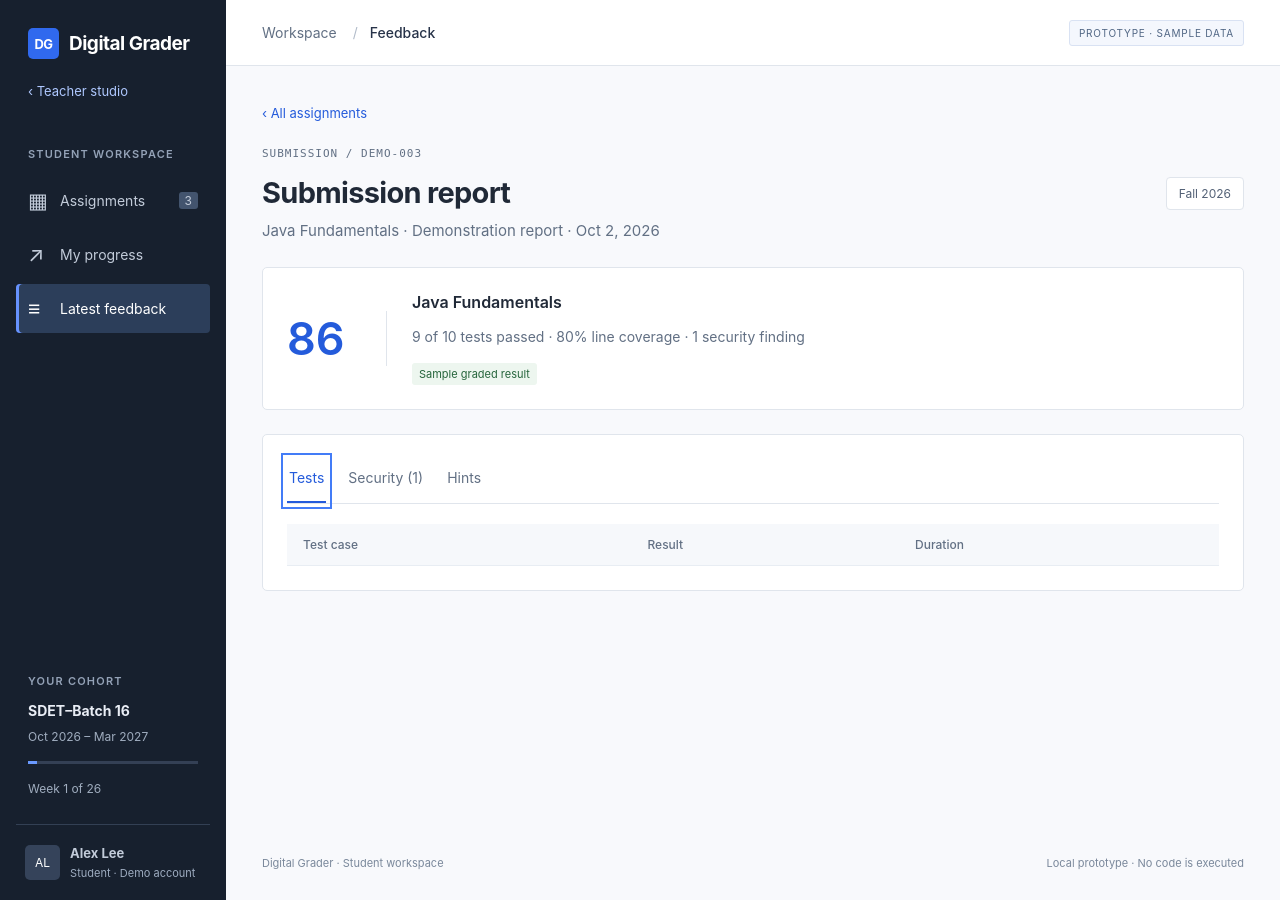
supports arrow-key tabs and reveals sample guidance
The width and height of the screenshot is (1280, 900).
Press Arrowright
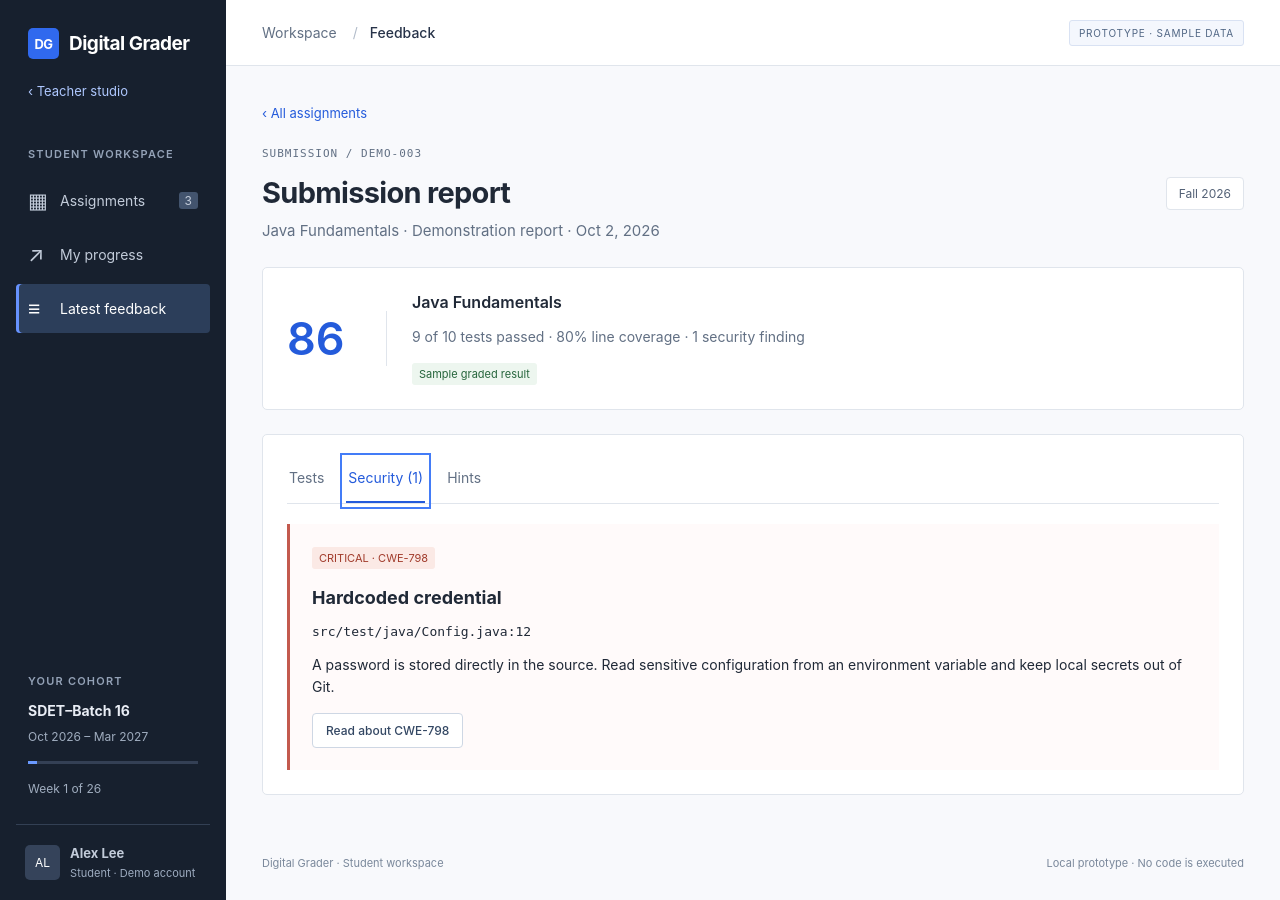
Now the panel named "Security (1)" is shown, box [287,524,1219,770]
Press End
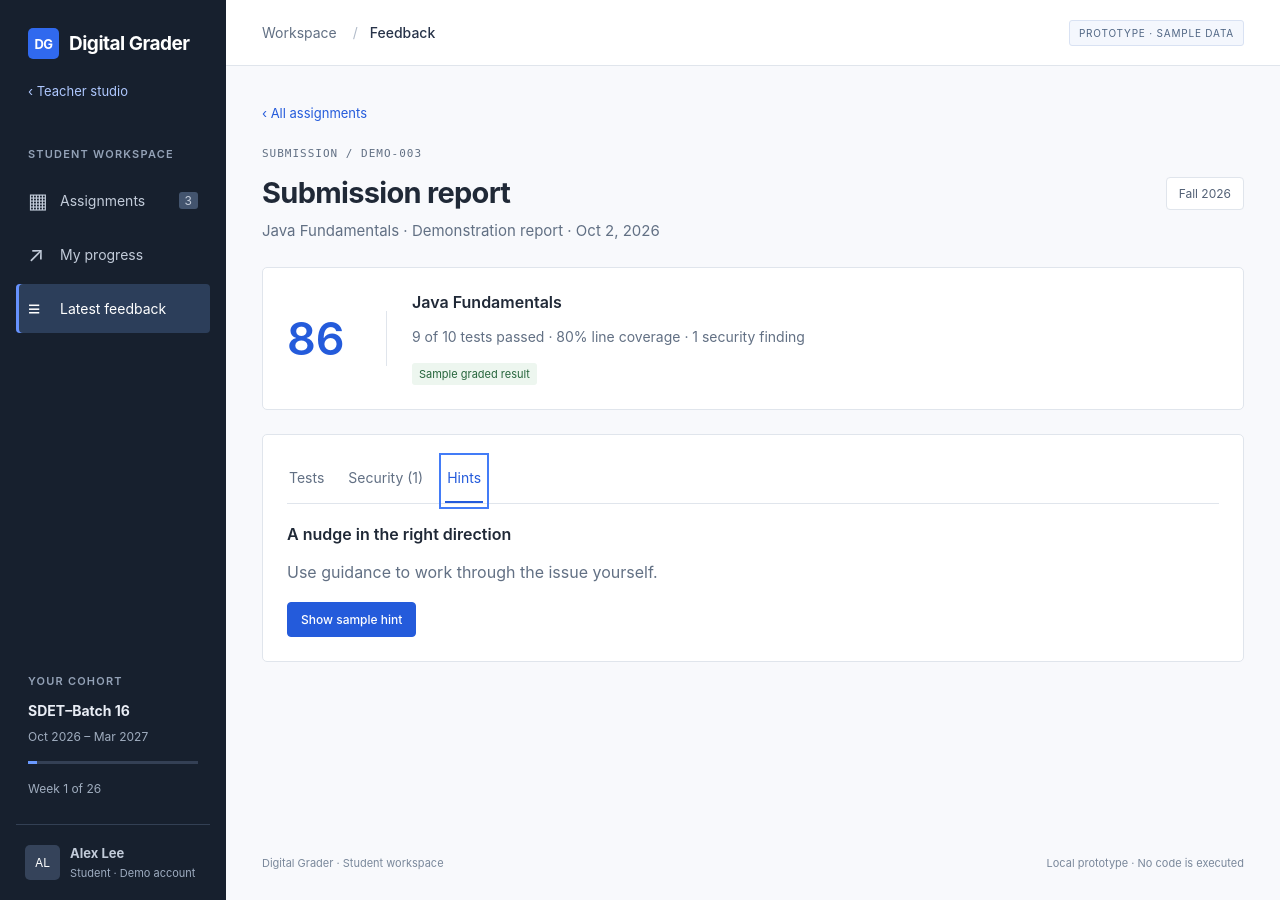
Click the button "Show sample hint". click: (352, 619)
box: [287,602,416,637]
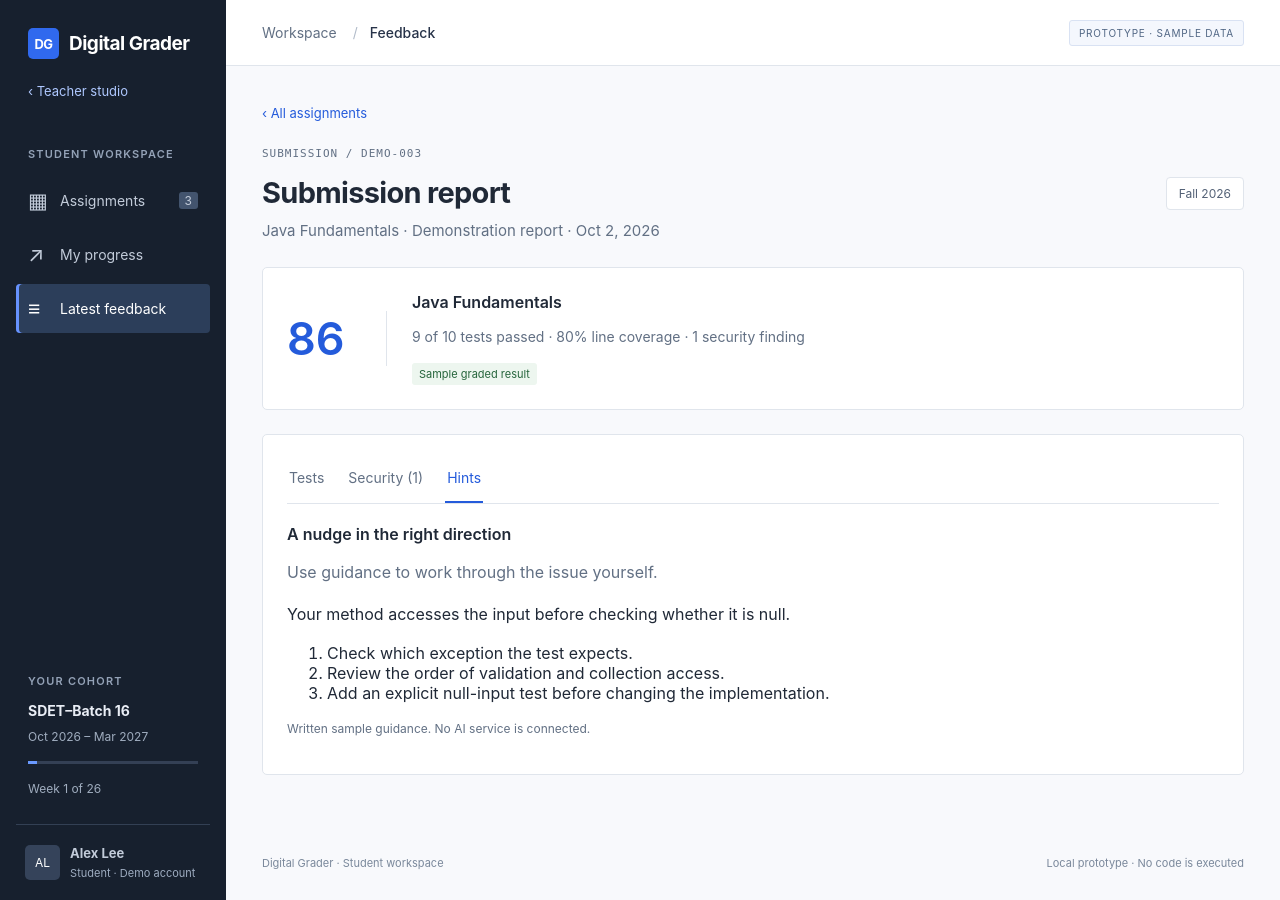
Now the text "Written sample guidance. No AI service is connected." is shown, box [287,721,590,736]
